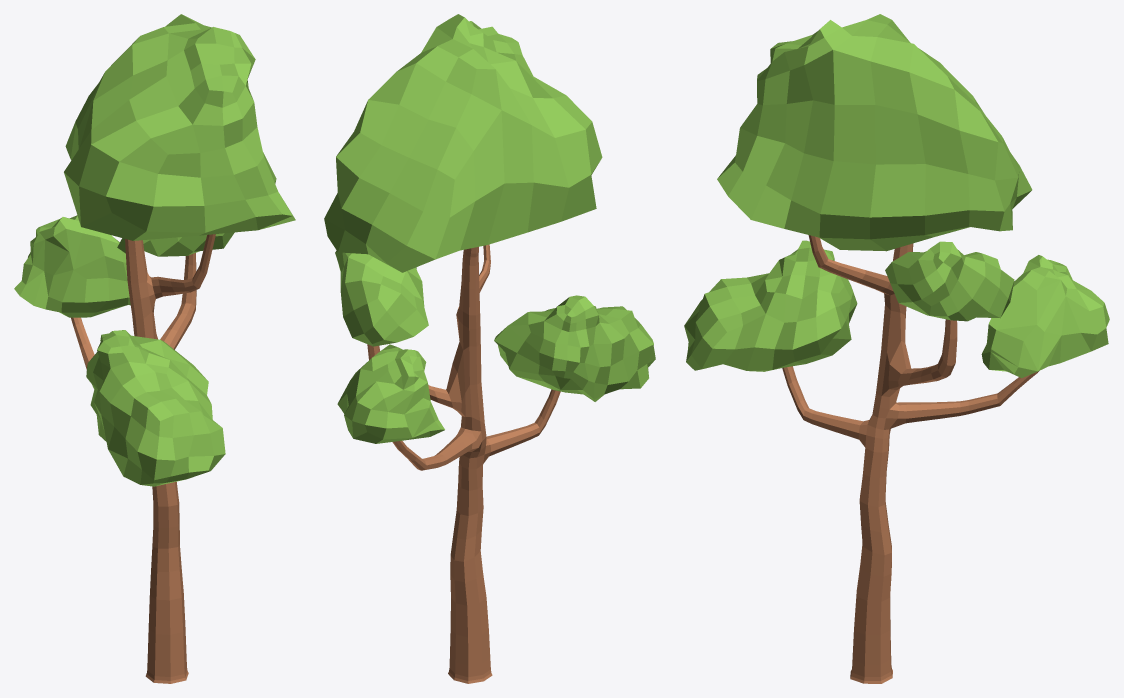
File: tree3.fbx
3 renders of one model, left to right at view 1: azimuth 30°, elevation 25°; view 2: azimuth 150°, elevation 25°; view 3: azimuth 270°, elevation 25°, orthographic. The views are drawn at different scales.
Parts seen in each view (by area): view 1: CommonTree_3.001; view 2: CommonTree_3.001; view 3: CommonTree_3.001.
Part boxes in pixels (x1,y1,x2,y2): CommonTree_3.001: (14,14,295,683); CommonTree_3.001: (324,14,655,683); CommonTree_3.001: (684,14,1109,683).
Size of the model in its own units: 127 by 364 by 209.
